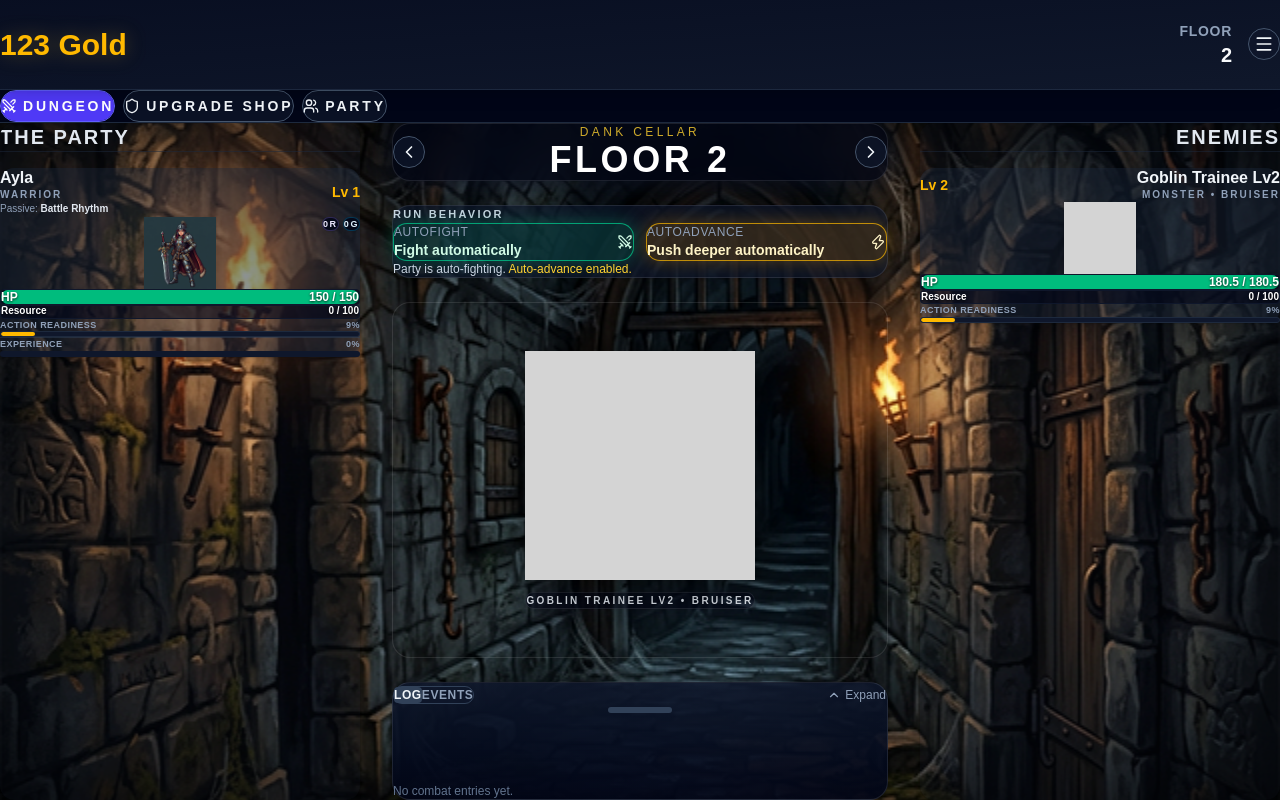
App integration › uses the mobile save menu and party navigation when resuming a saved run
Expected: the button "export save" is not shown
Step 1. Click the button named "open save menu" → (1264, 44), box [1248,28,1279,60]
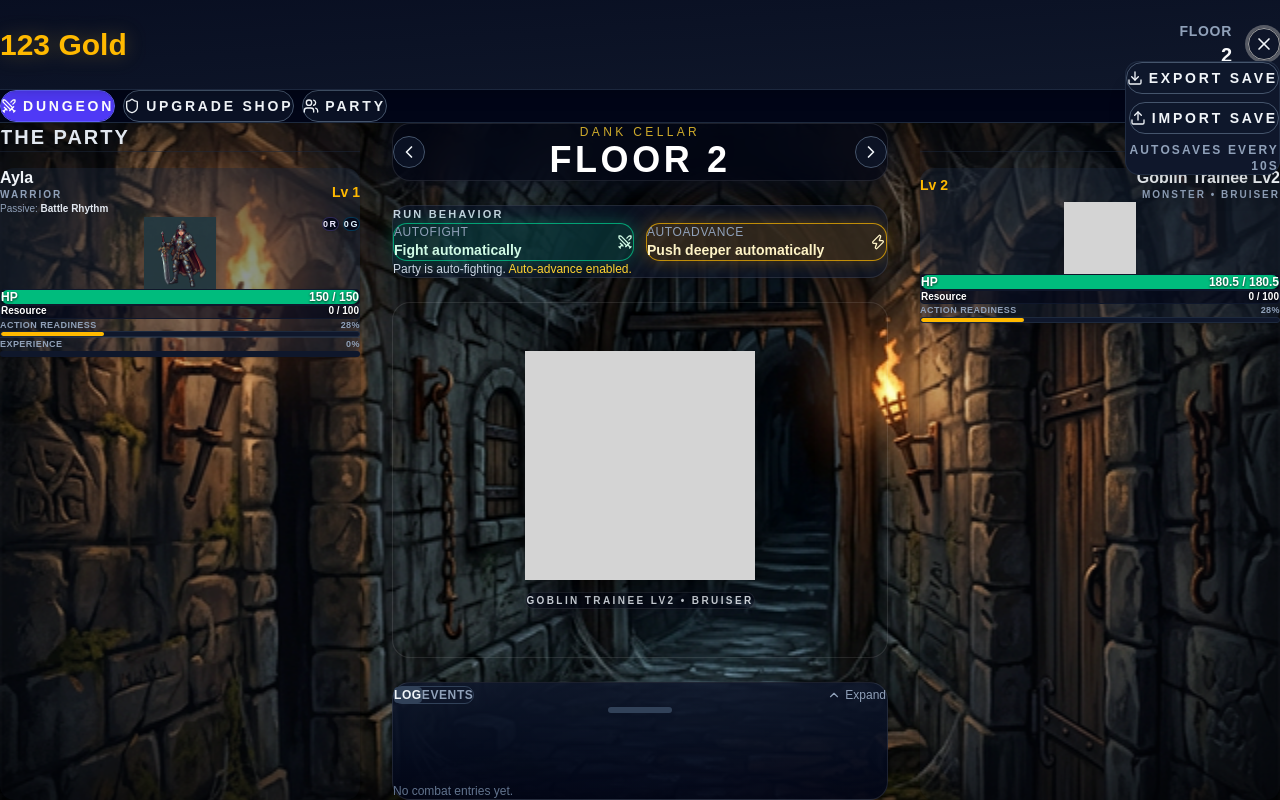
Result: the button "Export Save" is shown at [1126,62,1279,94]
Result: the message reads "Autosaves every 10s" at [1130,143,1279,173]
Step 2. Press Escape
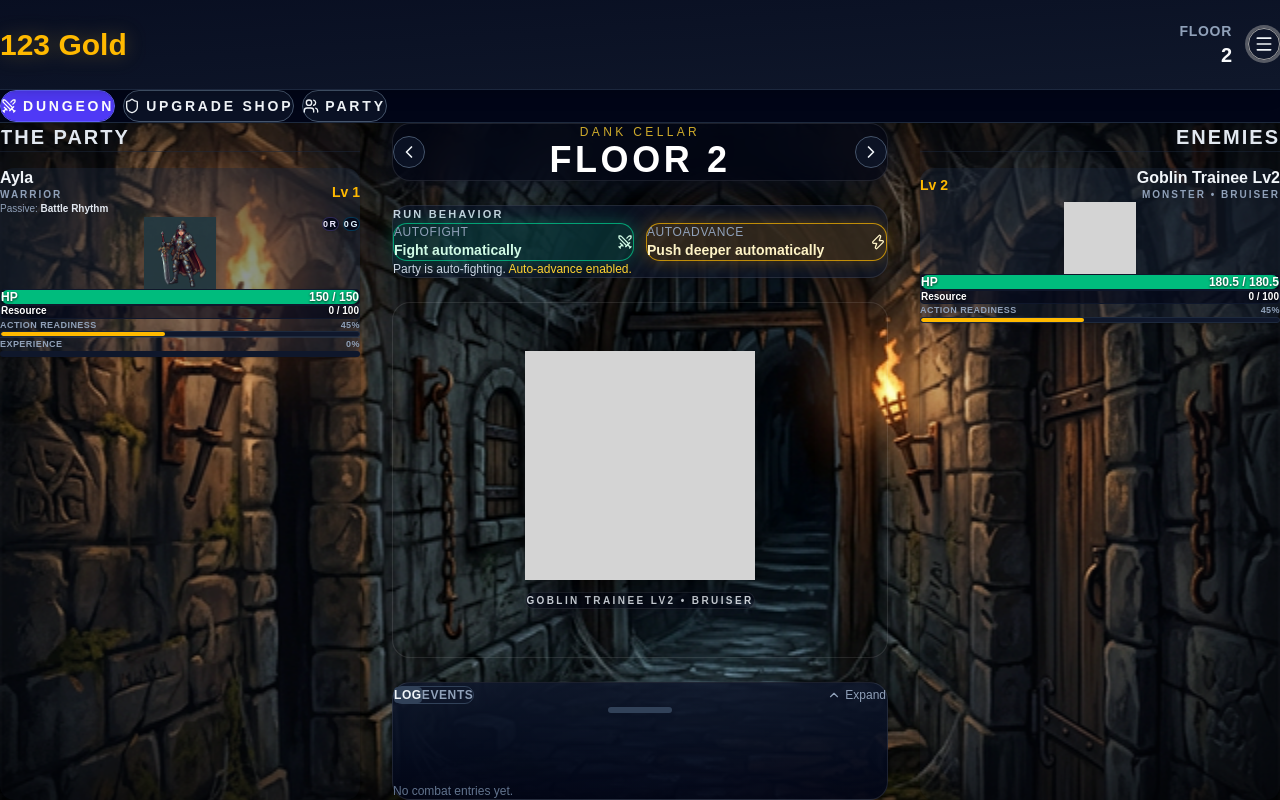
Result: the button "Export Save" is gone
Step 3. Click the button "Party" → (345, 106), box [302,90,387,122]
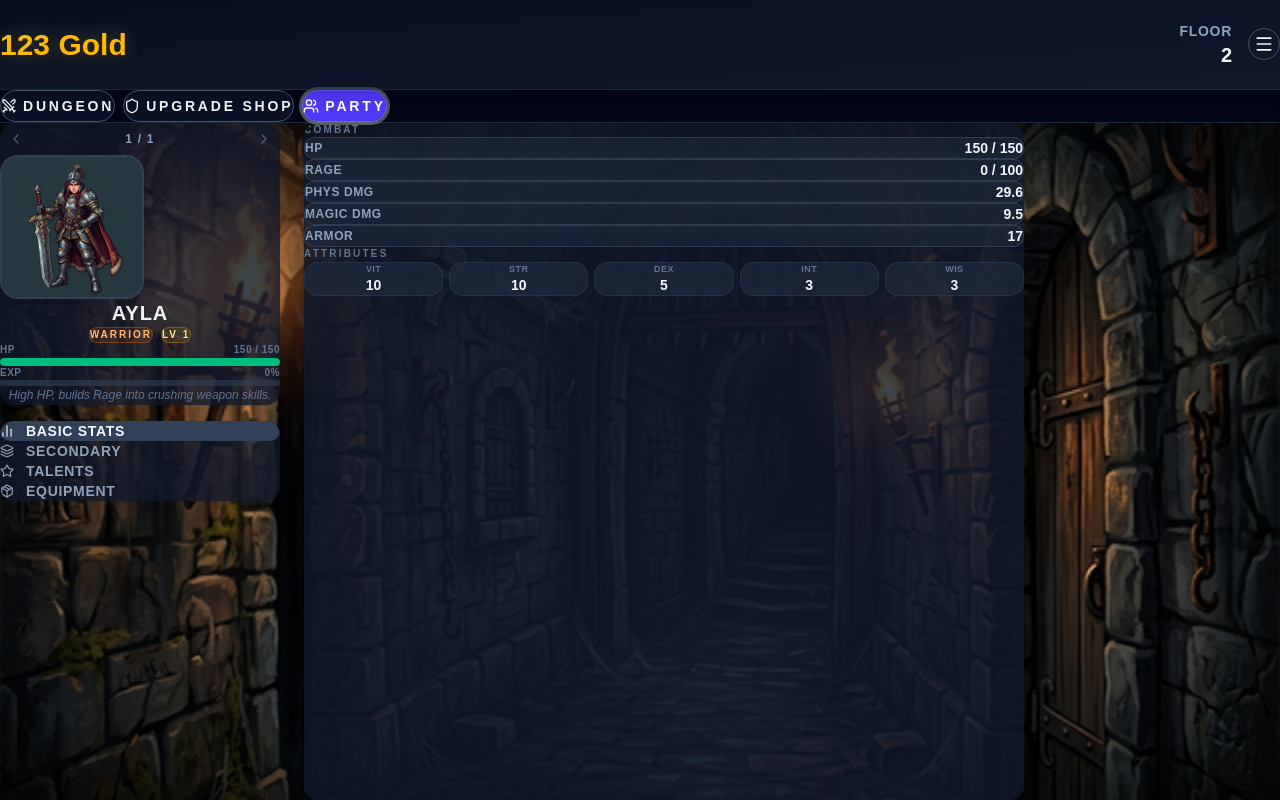
Expected: the heading "Ayla" is shown, [112,302,168,324]
Result: the button "Basic Stats" is shown at [0,421,280,441]
